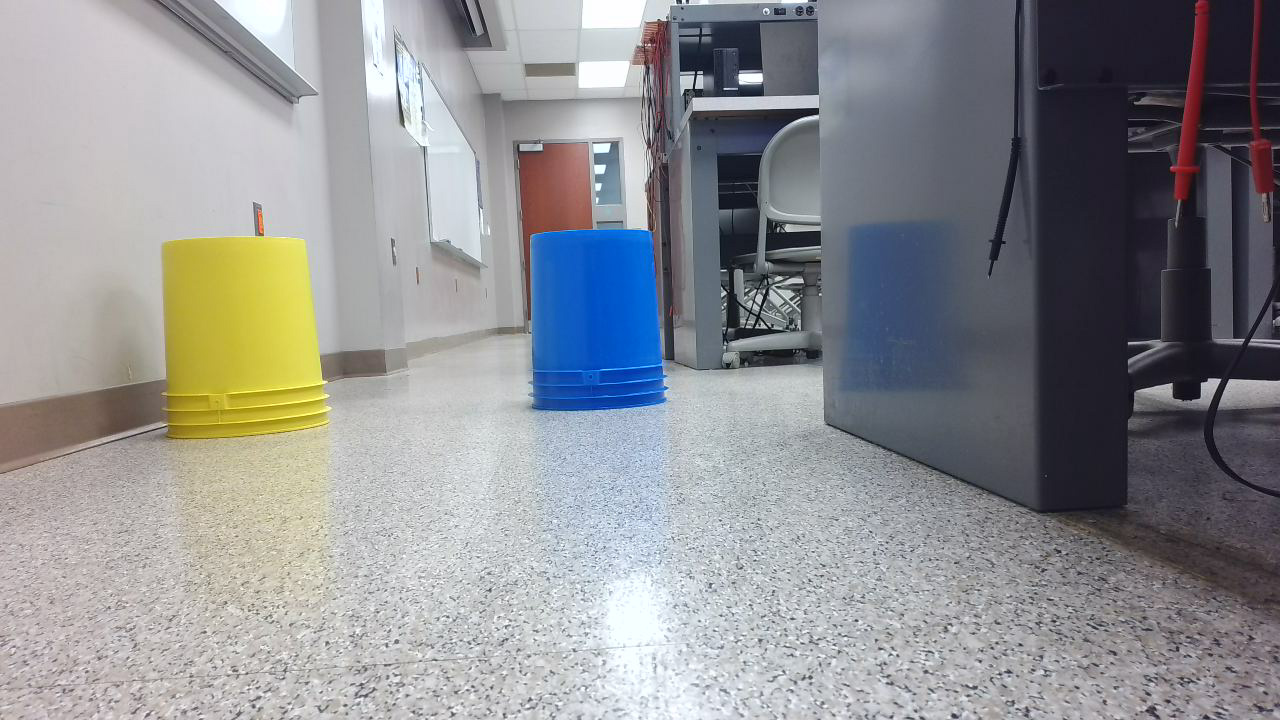blue_bucket: (527, 230, 678, 421)
yellow_bucket: (160, 237, 341, 453)
